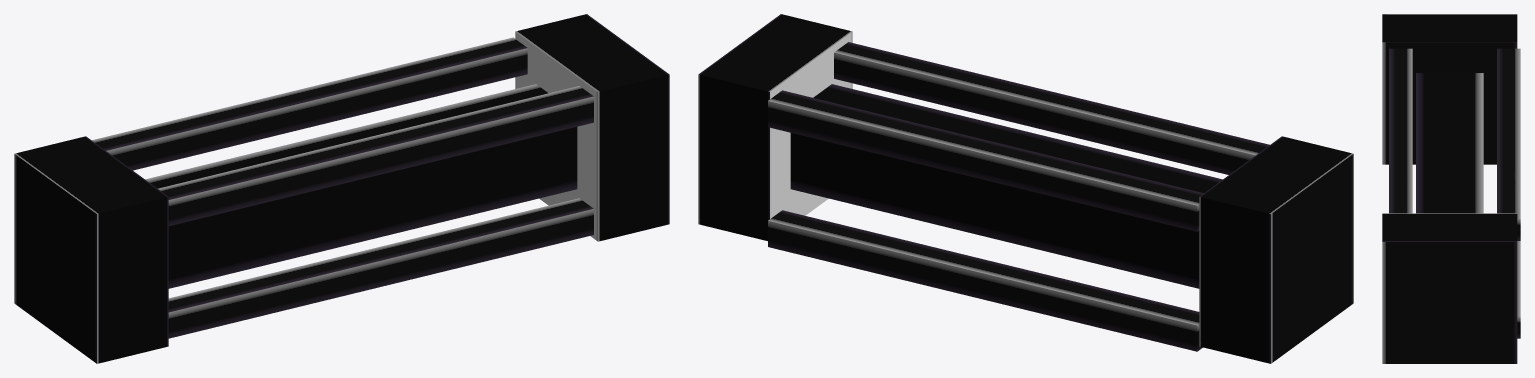
Rendered from PlayerSensor_UV_Corregidas (5).obj.
3 renders of one model, left to right at view 1: azimuth 30°, elevation 25°; view 2: azimuth 150°, elevation 25°; view 3: azimuth 270°, elevation 25°, orthographic. The views are drawn at different scales.
Visible parts, largest first — view 1: Dtalle2, Nucleo, Izquierda, Derecha; view 2: Dtalle2, Nucleo, Izquierda, Derecha, Dtalle1; view 3: Derecha, Nucleo, Izquierda, Dtalle2, Dtalle1.
Boxes of the visible parts, x1,y1,x2,y2 form: Dtalle2: (92,37,593,338); Nucleo: (145,84,577,288); Izquierda: (14,136,168,363); Derecha: (515,14,669,241); Dtalle2: (768,42,1269,231); Nucleo: (790,84,1222,288); Izquierda: (1199,136,1353,363); Derecha: (698,14,852,240); Dtalle1: (768,210,1202,351); Derecha: (1382,213,1517,363); Nucleo: (1416,73,1483,213); Izquierda: (1382,14,1517,164); Dtalle2: (1389,48,1520,240); Dtalle1: (1517,241,1520,338).
Bounding box in the file's own units: 1 × 0.2563 × 0.2563.
1 material, 1 textured.
